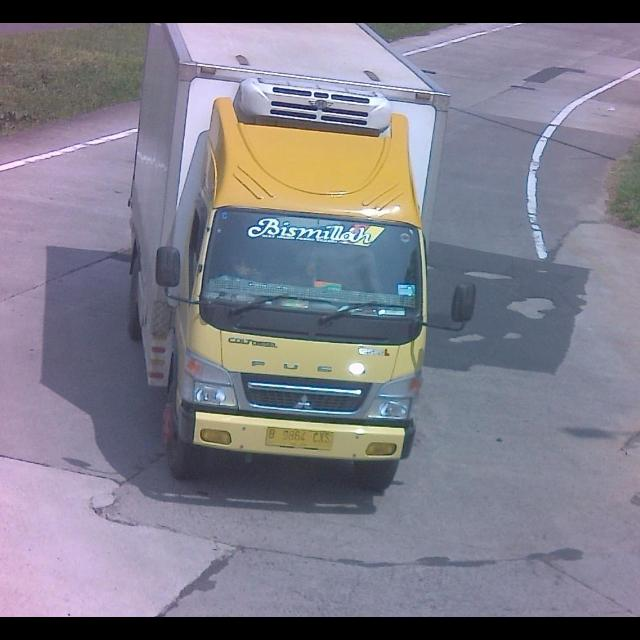plate: (264, 426, 336, 454)
